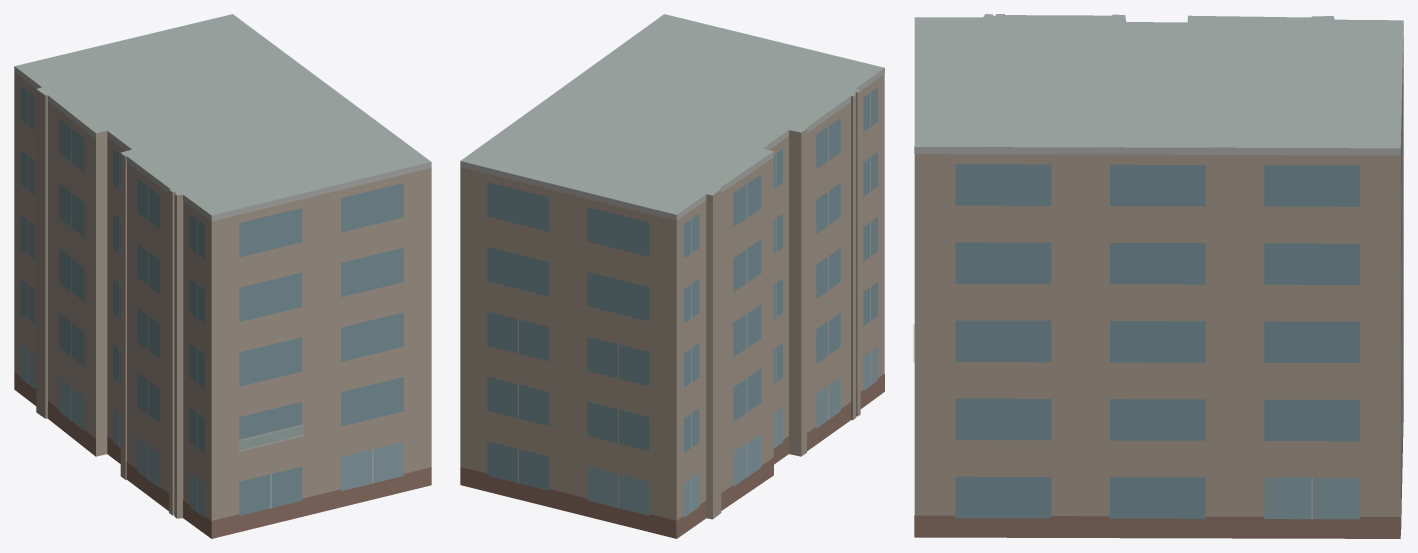
File: survey-upis-32824683.glb
The picture shows the model from 3 angles, left to right: view 1: azimuth 30°, elevation 25°; view 2: azimuth 150°, elevation 25°; view 3: azimuth 270°, elevation 25°; orthographic projection. The views are drawn at different scales.
Visible parts, largest first — view 1: survey-upis-32824683.tmp; view 2: survey-upis-32824683.tmp; view 3: survey-upis-32824683.tmp.
Boxes of the visible parts, x1,y1,x2,y2 form: survey-upis-32824683.tmp: [14, 14, 431, 538]; survey-upis-32824683.tmp: [460, 14, 884, 538]; survey-upis-32824683.tmp: [913, 14, 1403, 538].
Size of the model in its own units: 9.74 by 13.2 by 15.02.
